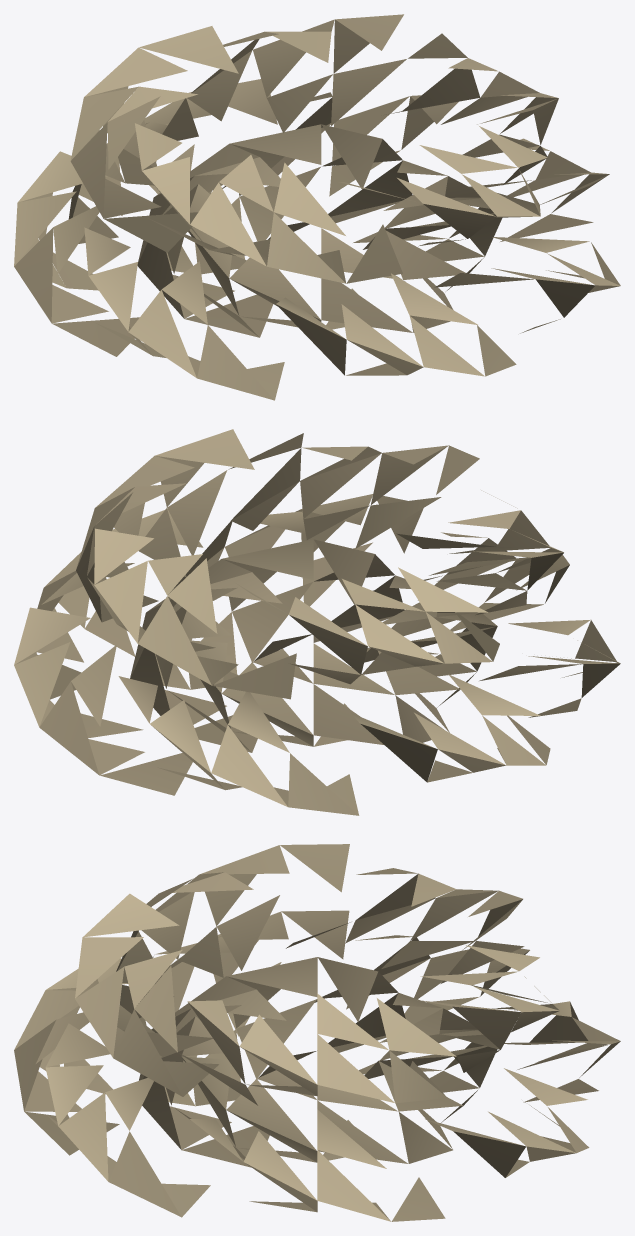
File: rope.lod.glb
The picture shows the model from 3 angles, top to bottom: view 1: azimuth 30°, elevation 25°; view 2: azimuth 150°, elevation 25°; view 3: azimuth 270°, elevation 25°; orthographic projection.
Parts seen in each view (by area): view 1: rope; view 2: rope; view 3: rope.
Boxes of the visible parts, box(x1,y1,x2,y2) form: rope: box(14, 14, 620, 400); rope: box(14, 429, 620, 815); rope: box(14, 844, 620, 1221).
Bounding box in the file's own units: 0.826 × 0.3045 × 0.8397.
